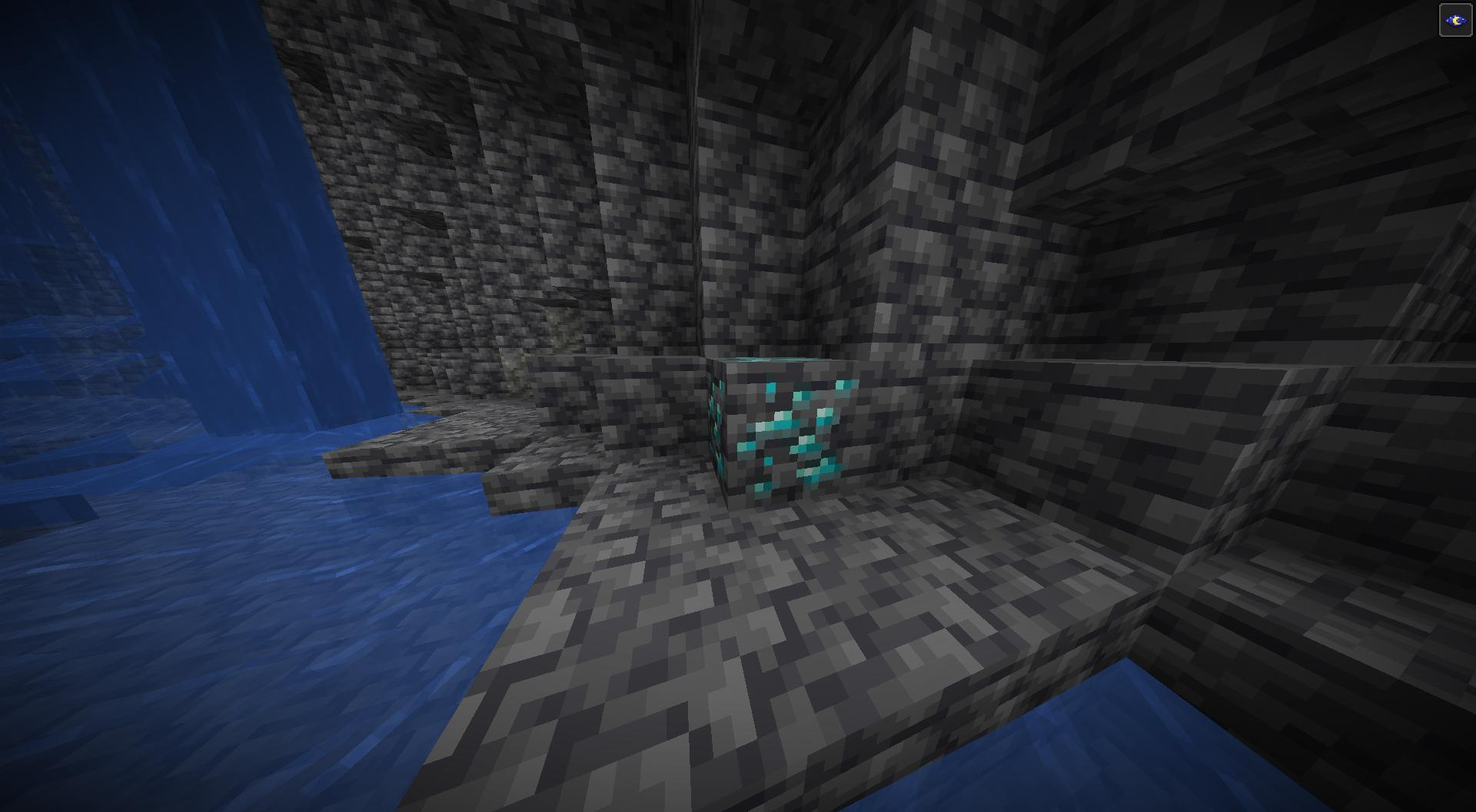diamond ore: (702, 373, 853, 496)
